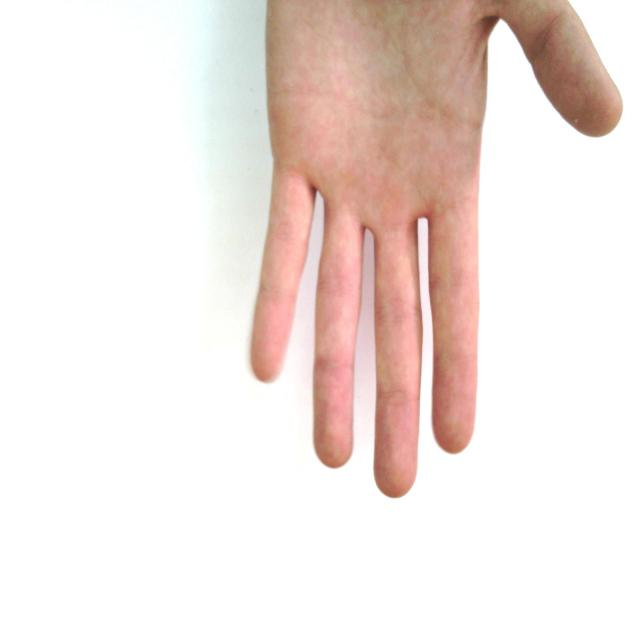others: (171, 1, 629, 498)
